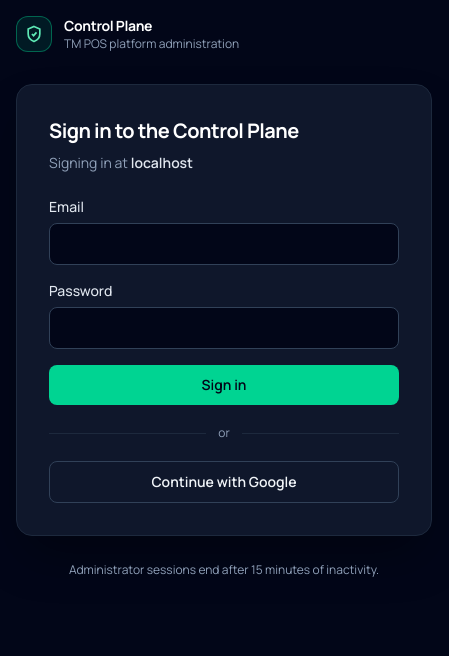
Test: console sign-in › reads the same whatever failed: the provider rejects the credentials
This screenshot has width=449, height=656.
Step 1. Type "ops@tmpos.test" into the field labelled "Email" → {"x": 224, "y": 244}, box [49,223,399,265]
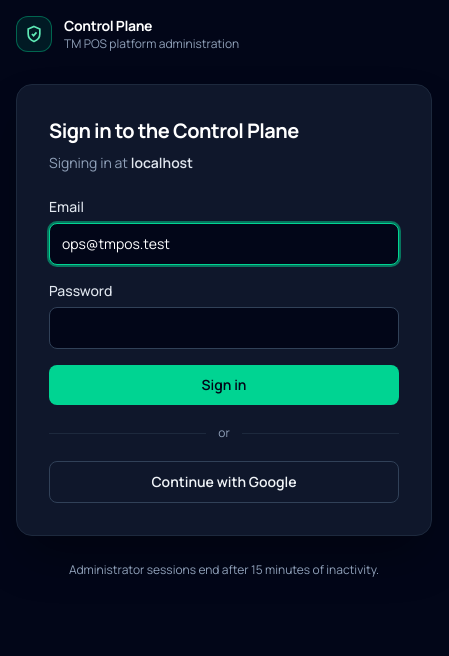
Step 2. Type "correct horse" into the password field labelled "Password" → {"x": 224, "y": 328}, box [49,307,399,349]
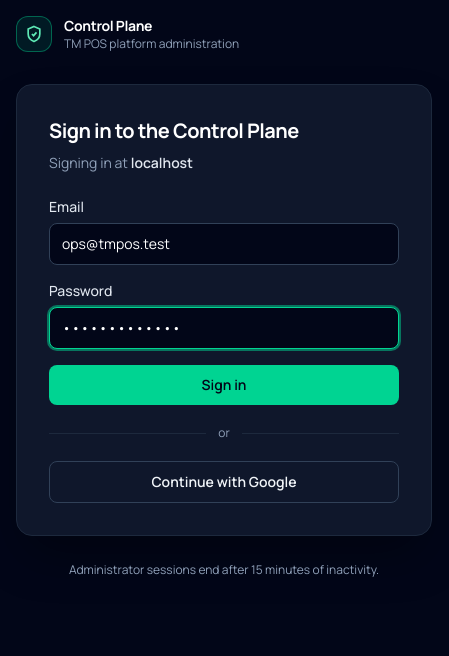
Step 3. Click the button "Sign in" → {"x": 224, "y": 385}, box [49,365,399,405]
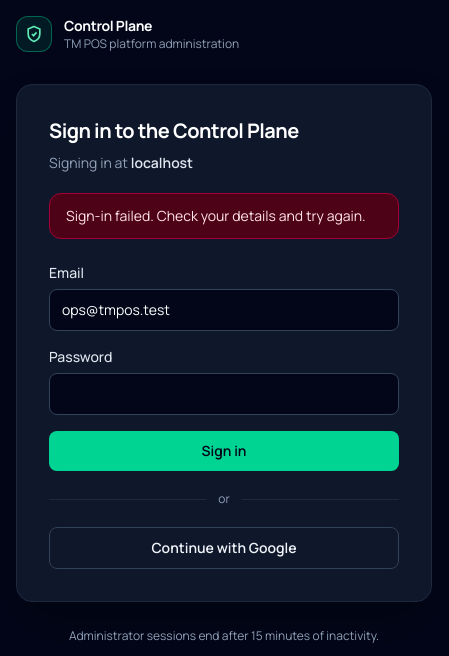
Expected: the number of messages is 1, [49,193,399,239]
Expected: the message reads "Sign-in failed. Check your details and try again.", [66,206,366,225]
